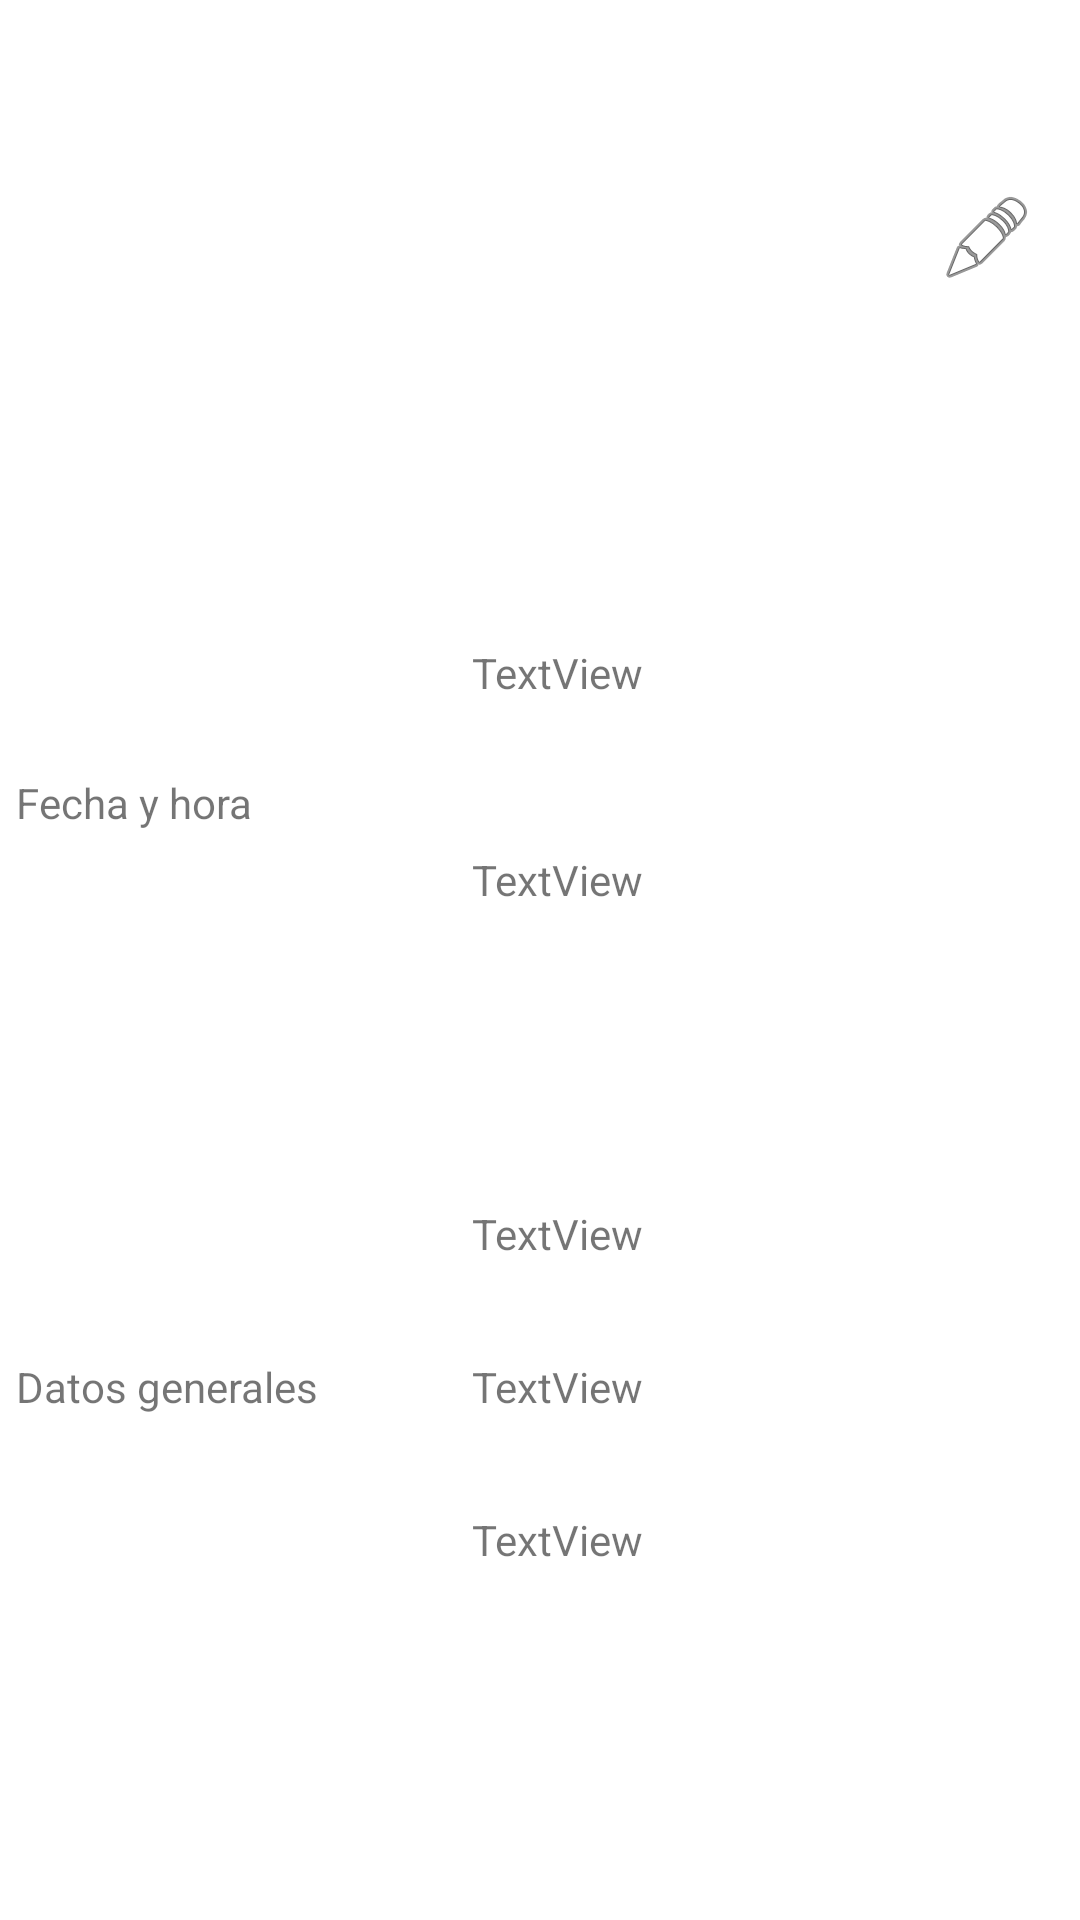

Where to tap for icons on this 1080x1920 app screen, as (x,y):
edit: (986,237)
